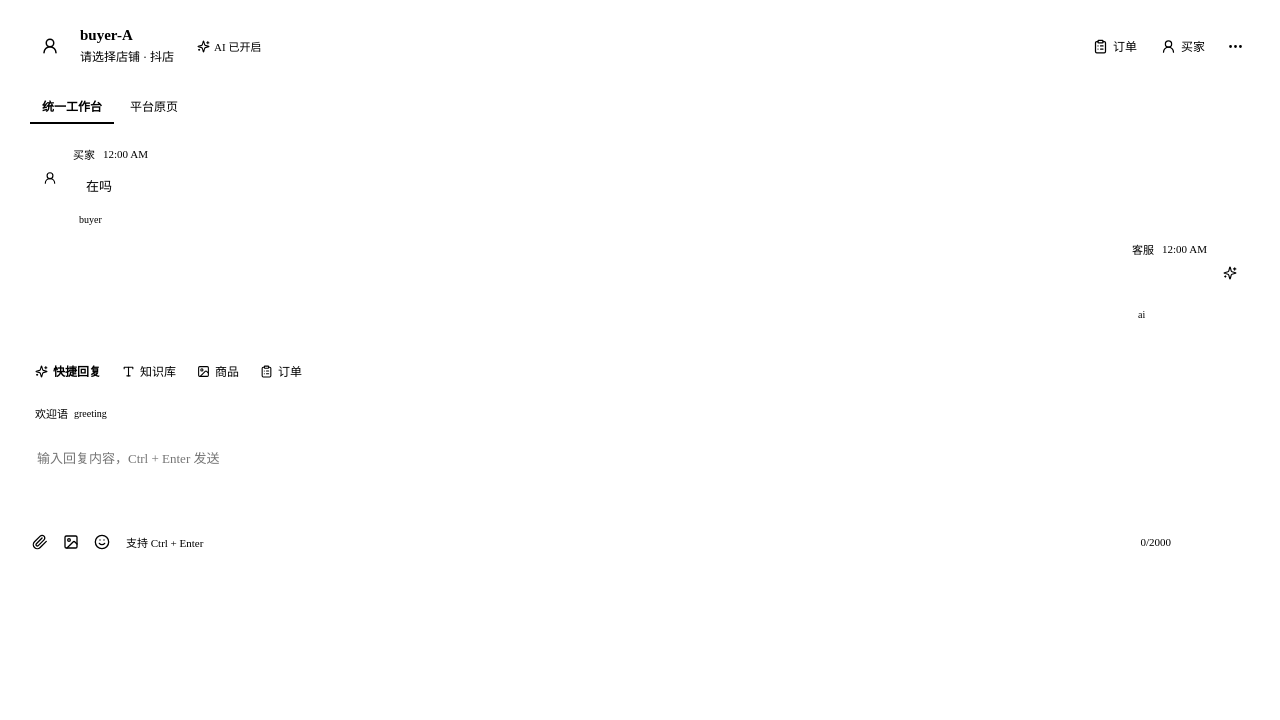
SessionTimeline › 订单和买家按钮加载当前会话上下文
Expected: the text "在吗" is shown, [86,179,112,194]
Click the button "订单" in the row of "已开启". click: (1115, 46)
box: [1084,30,1146,62]
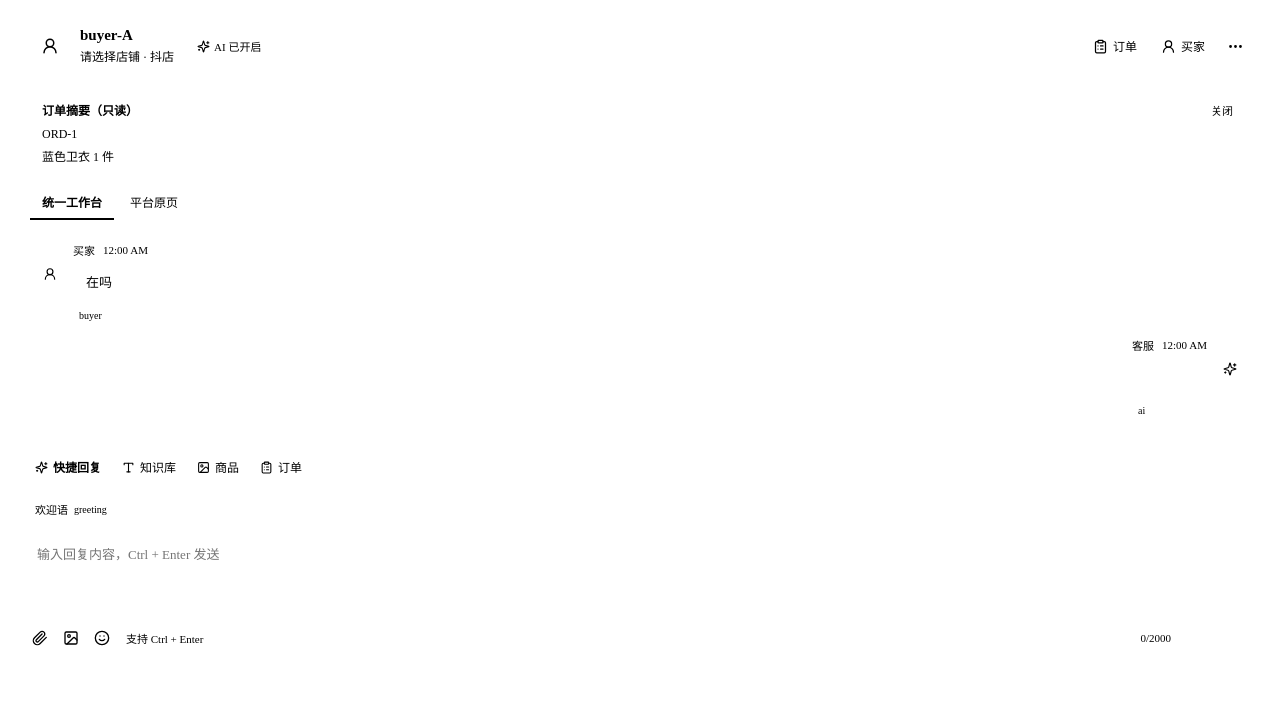
Result: the text "蓝色卫衣 1 件" is shown at [42,150,114,164]
Click the button with aria-label "关闭上下文面板". click: (1222, 110)
box: [1206,100,1238,120]
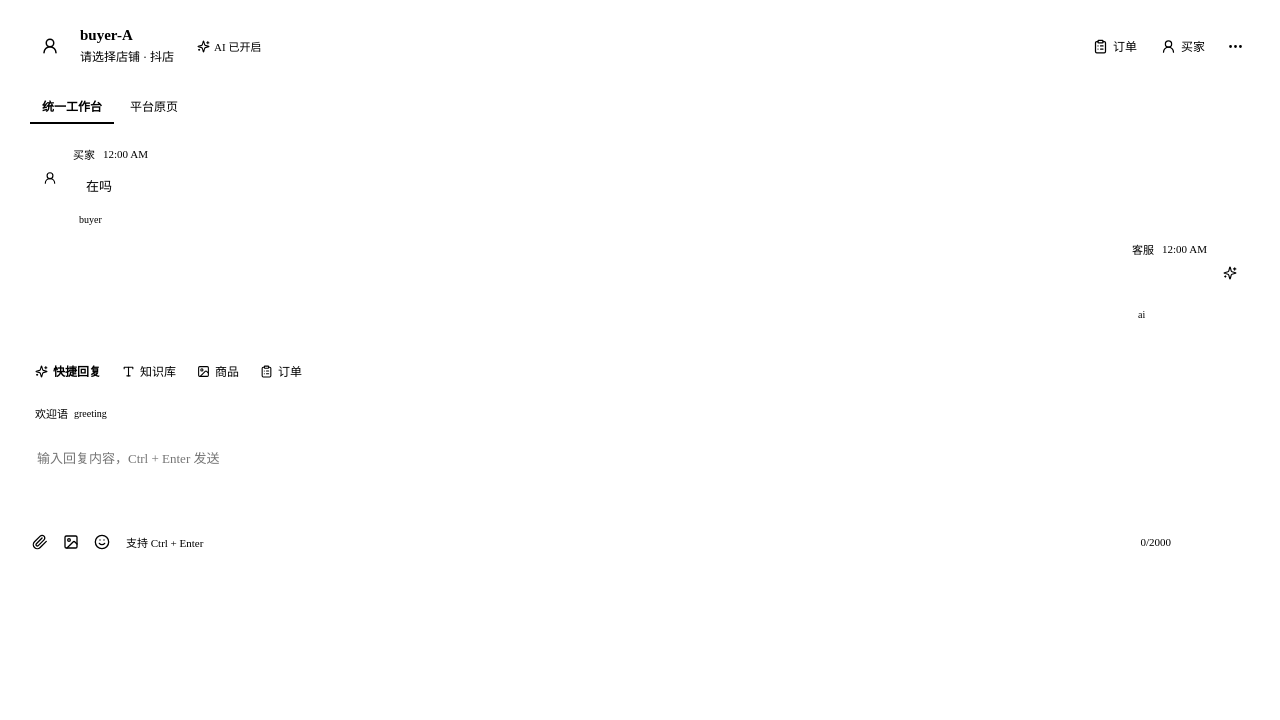
Click the button "买家". click: (1183, 46)
box: [1152,30,1214,62]
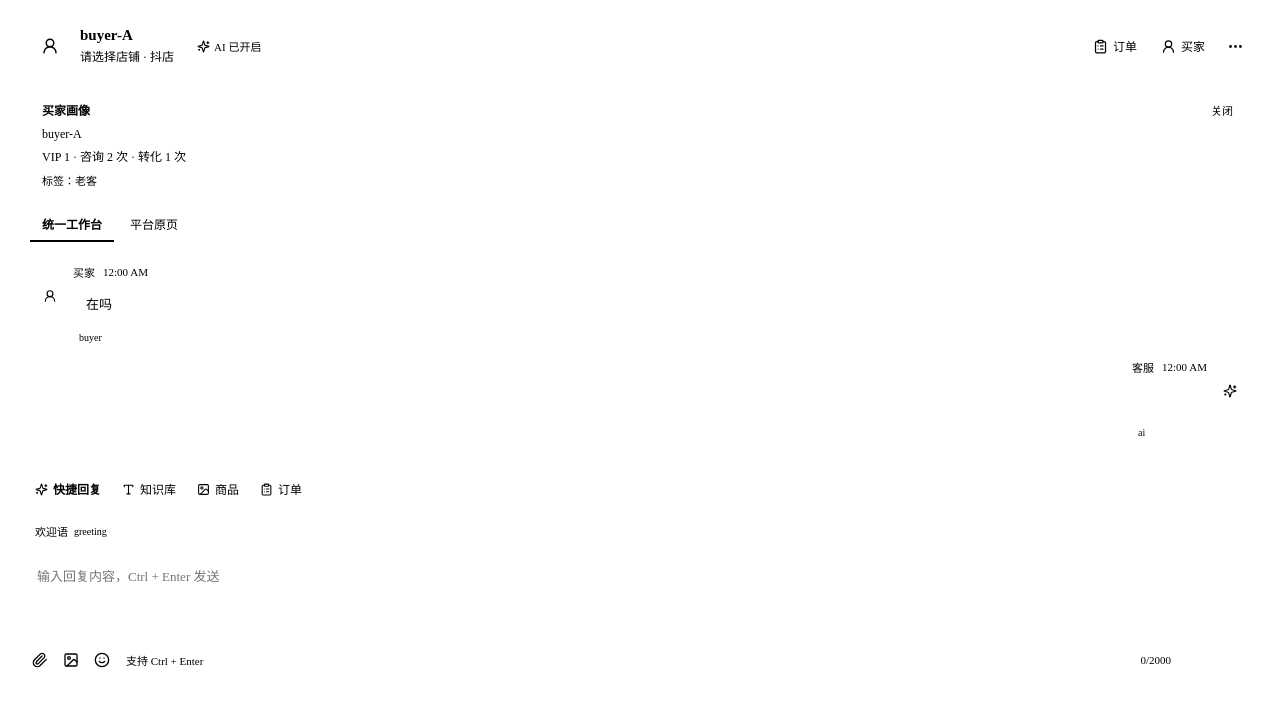
Result: the text "VIP 1 · 咨询 2 次 · 转化 1 次" is shown at [42,150,186,164]
